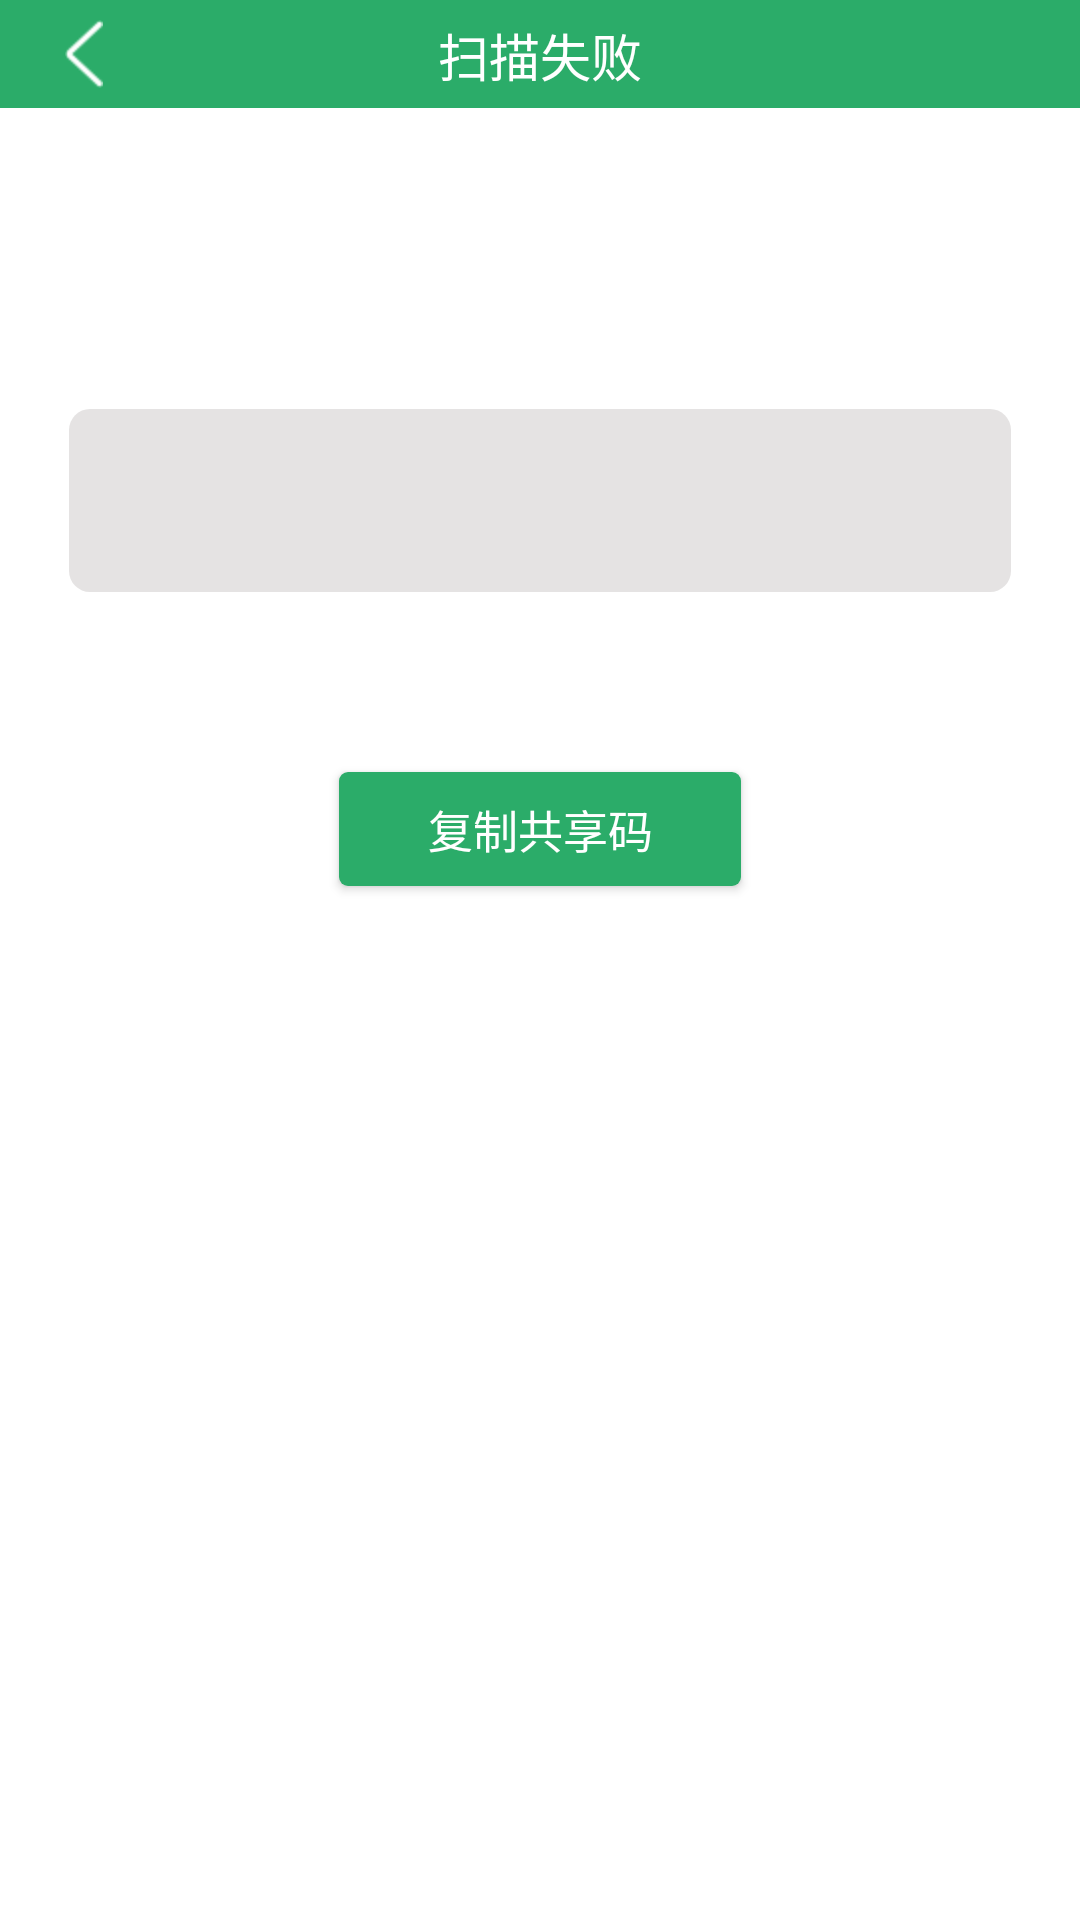

Named icons in this screenshot (1080x1920) and their centers, [x,y]:
back: [84,54]
